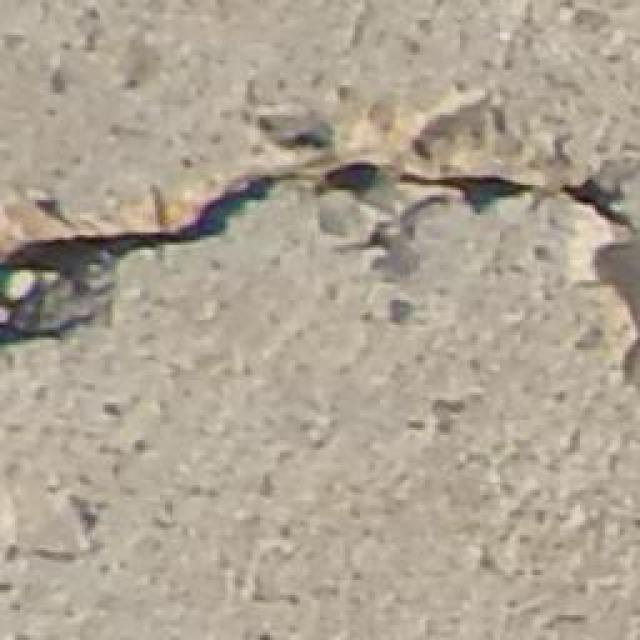concrete-crack: (0, 121, 640, 396)
